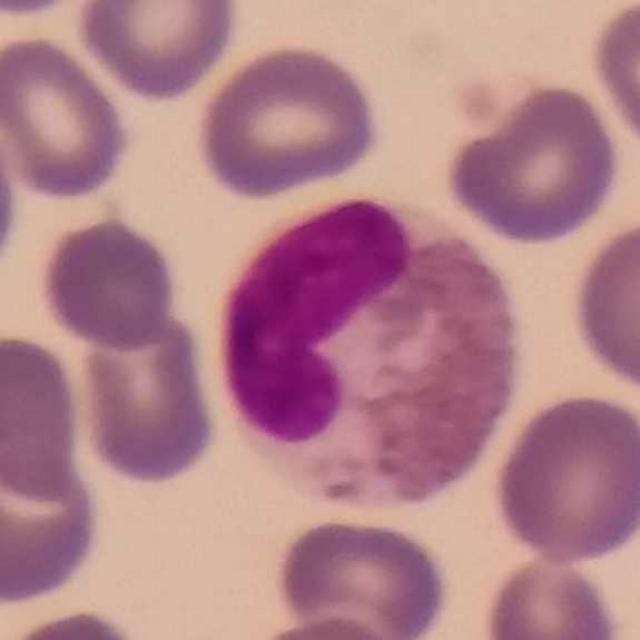Eosinophil: (214, 184, 527, 526)
Platelets: (439, 75, 507, 128)
RBC: (439, 78, 626, 248), (192, 39, 385, 203), (70, 300, 225, 490), (488, 388, 640, 566), (0, 31, 135, 204), (270, 512, 453, 639), (34, 213, 182, 354), (0, 438, 108, 610), (72, 0, 245, 104), (0, 328, 89, 502), (566, 210, 640, 398), (478, 551, 626, 640), (585, 0, 639, 160), (0, 605, 159, 640), (243, 611, 417, 640), (0, 101, 23, 293), (0, 0, 100, 21)
